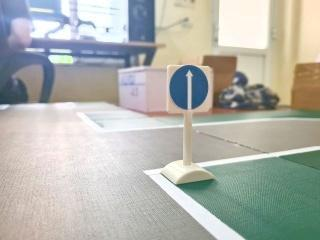straight: (165, 61, 214, 114)
